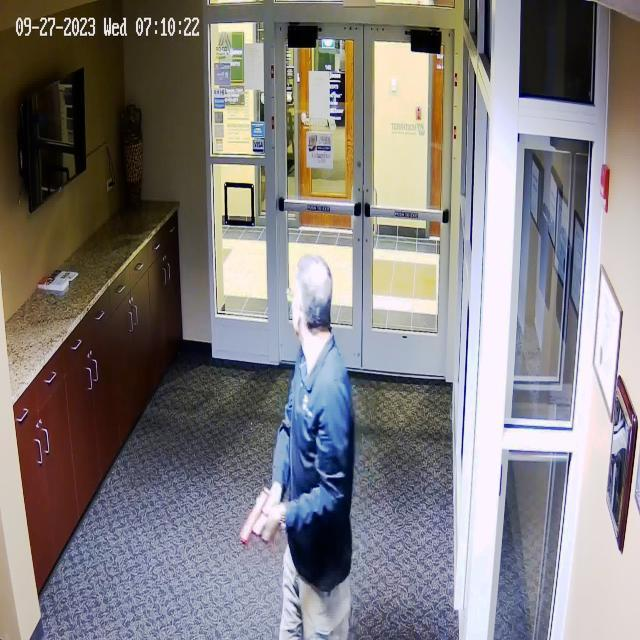Gun: (229, 477, 292, 558)
